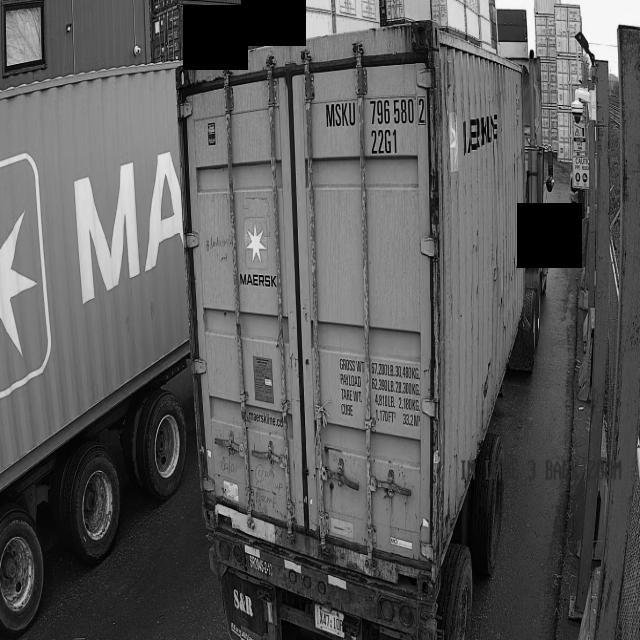container_company_logo: (238, 217, 275, 296)
container_number: (324, 99, 428, 159)
license_plate: (311, 606, 348, 638)
other_container_info: (337, 350, 421, 431)
truck_with_container: (178, 21, 554, 640), (0, 64, 190, 633)
